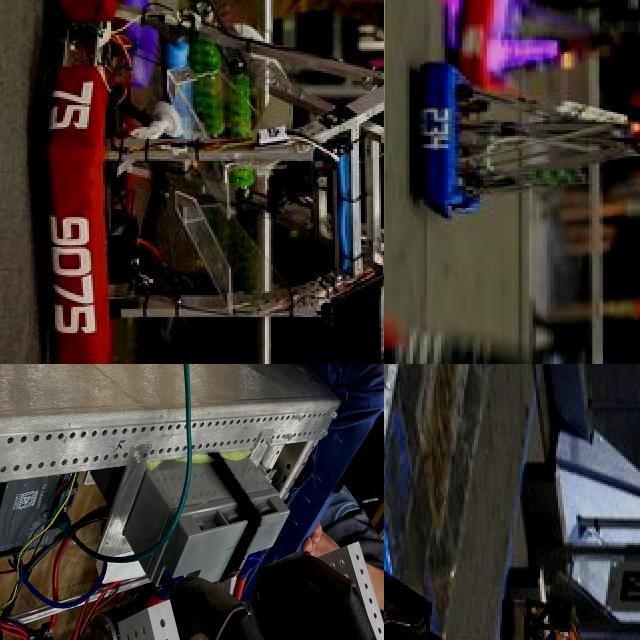FRC-Robots: (40, 0, 384, 364), (384, 472, 640, 640), (419, 67, 640, 243), (384, 296, 640, 364), (437, 0, 640, 60)
